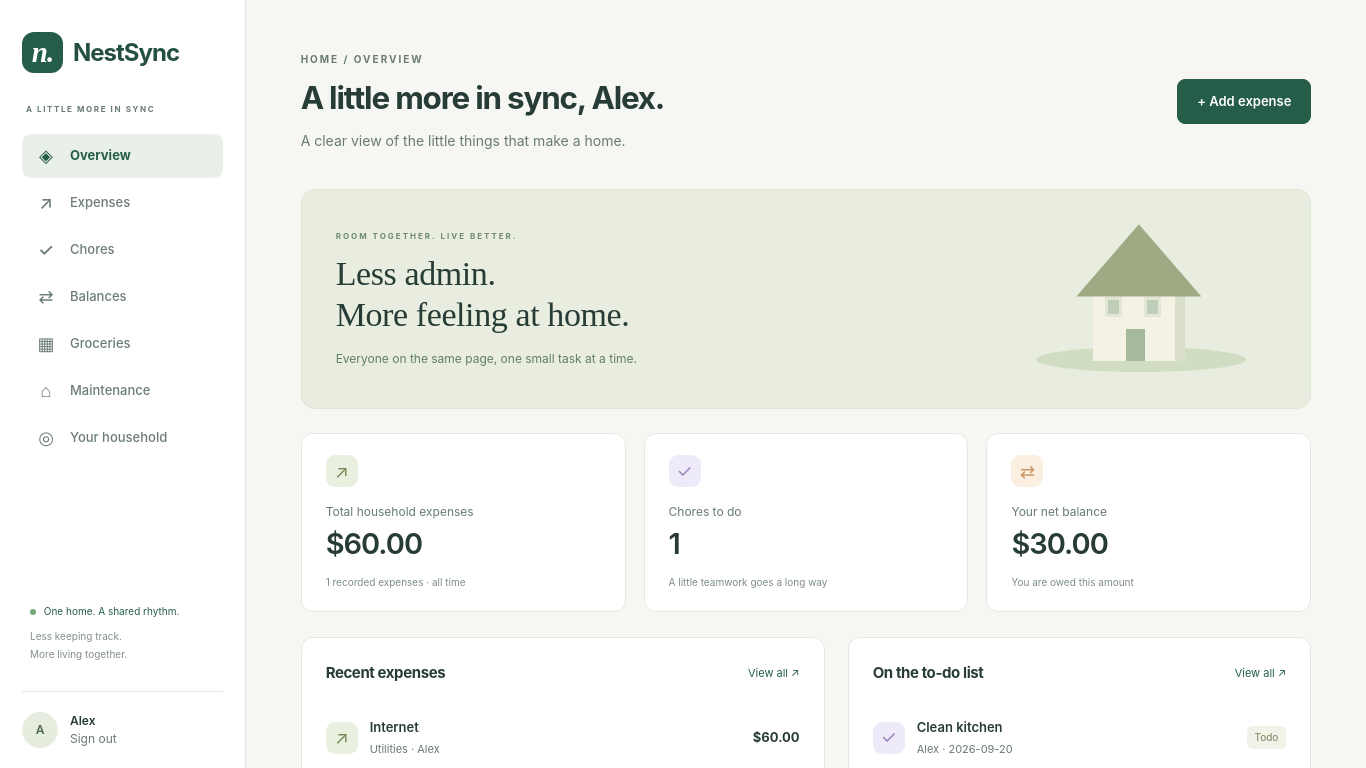
Test case: signs out and removes session data
The width and height of the screenshot is (1366, 768).
Step 1. Click the button "Sign out" → (93, 739), box top-left (70, 730), bottom-right (117, 748)
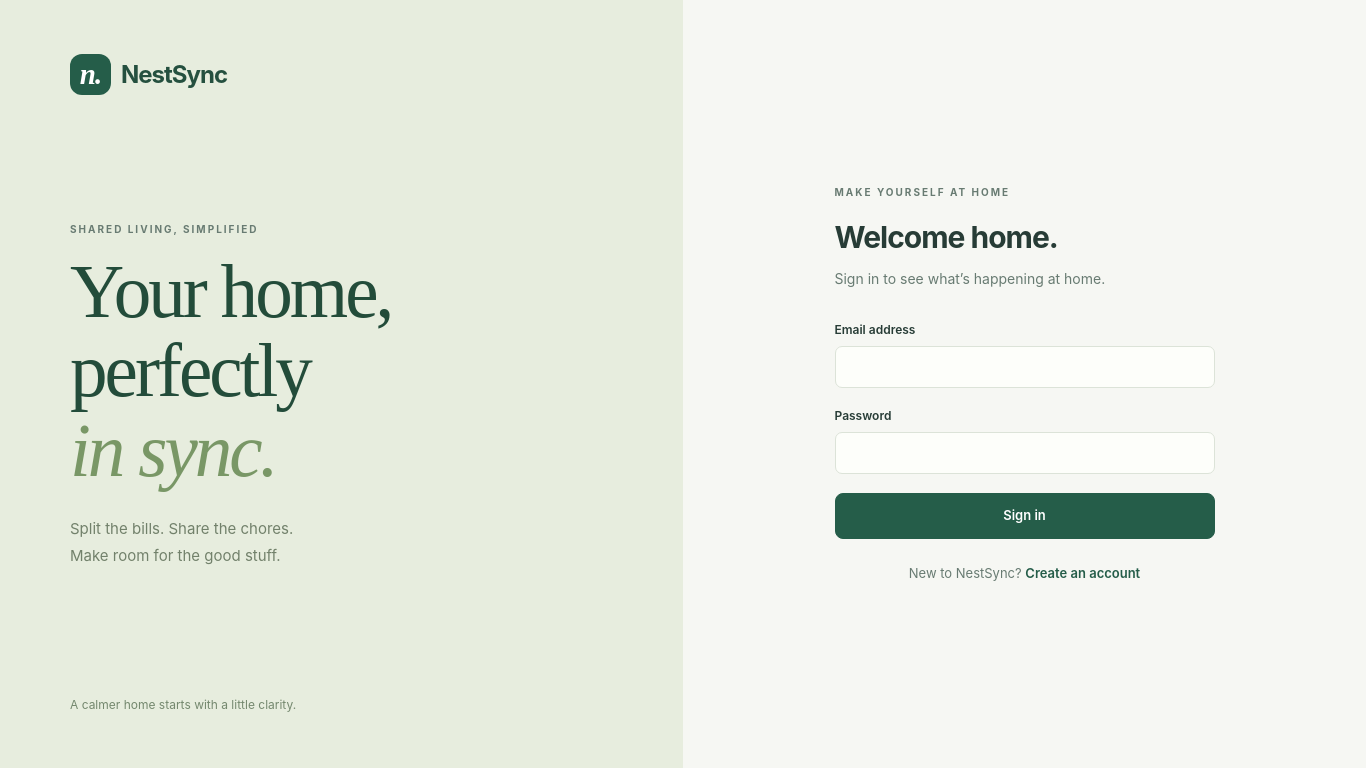
Check: the heading "Welcome home." is shown, box top-left (834, 219), bottom-right (1058, 255)
